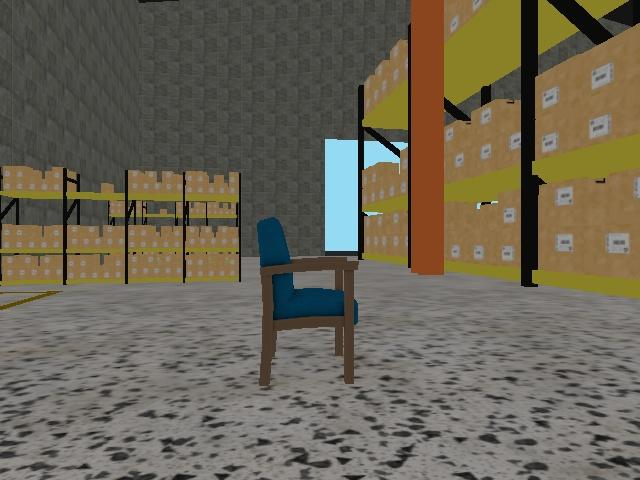chair: (254, 214, 362, 388)
